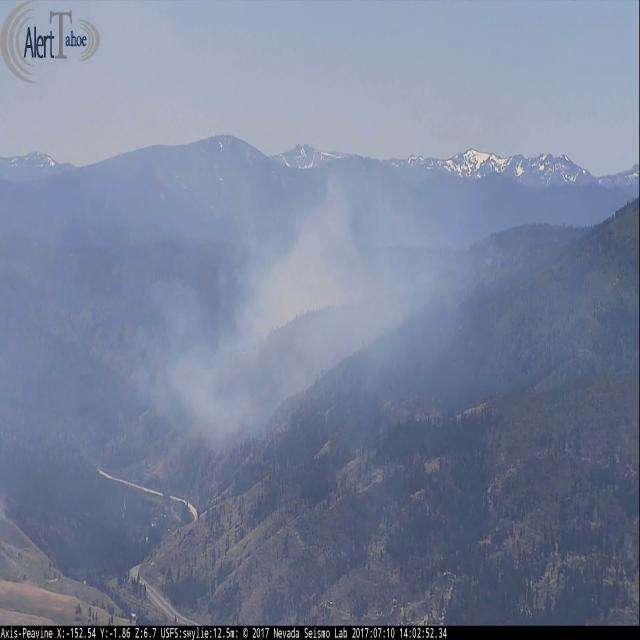smoke: (166, 157, 440, 452)
